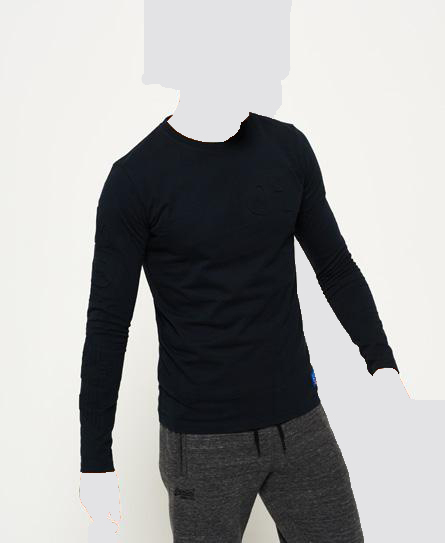teeshirt: (74, 114, 400, 471)
